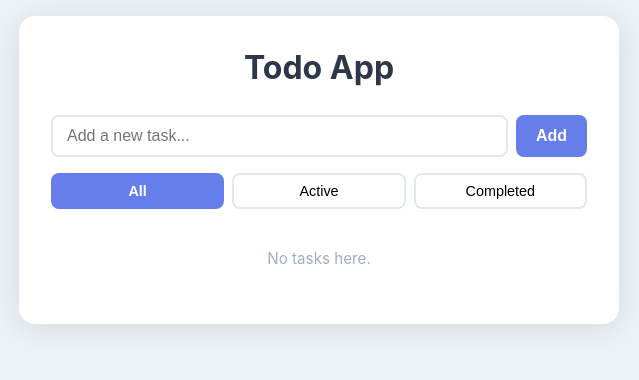
Test case: App › filters todos - shows only active
Type "Active task" into the field with placeholder "Add a new task..." at (279,136), box [51,115,508,157]
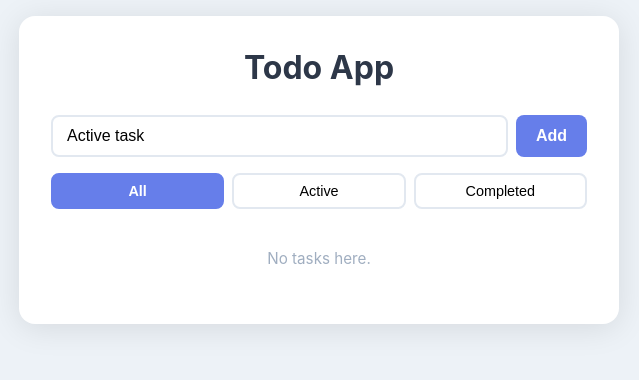
Click the button "Add" at (551,136), box [516,115,587,157]
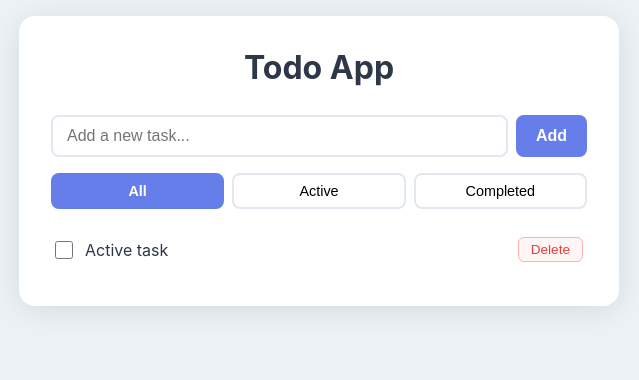
Type "Done task" into the field with placeholder "Add a new task..." at (279,136), box [51,115,508,157]
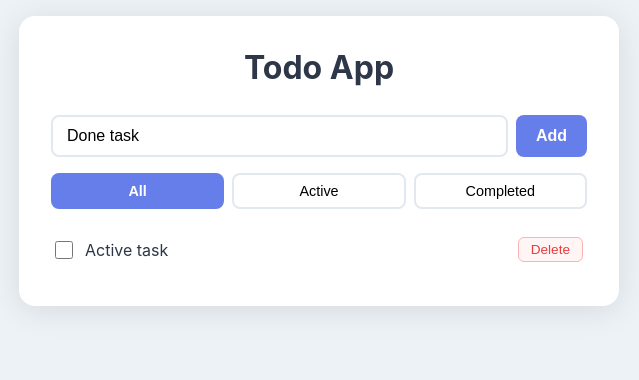
Click the button "Add" at (551,136), box [516,115,587,157]
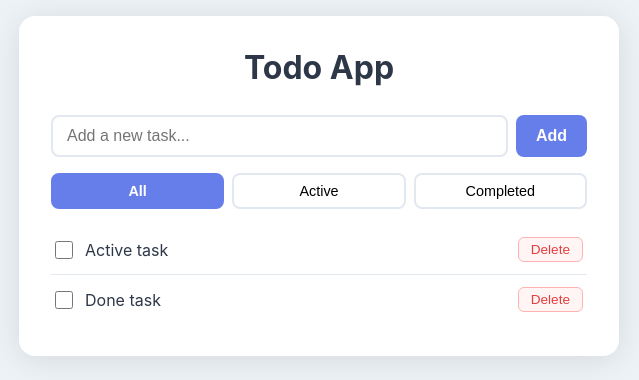
Click the checkbox next to "Done task" at (64,300), box [55,290,73,308]
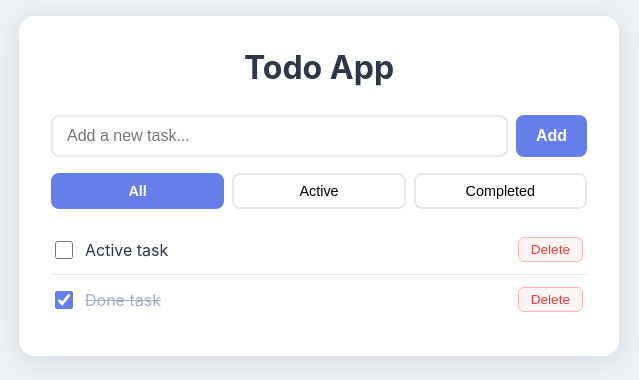
Click the button "Active" at (319,191), box [232,173,406,209]
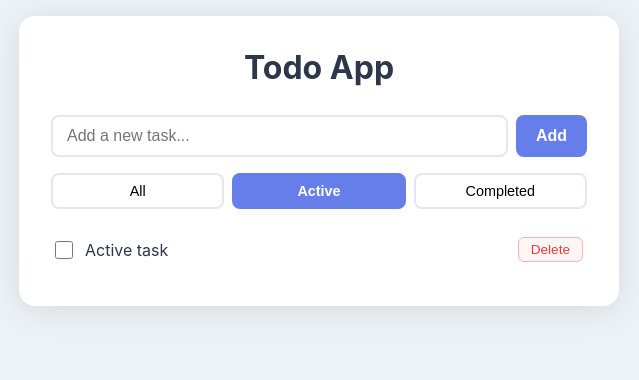
Check: the text "Active task" is shown, box [85,240,168,260]
Check: the text "Done task" is gone
